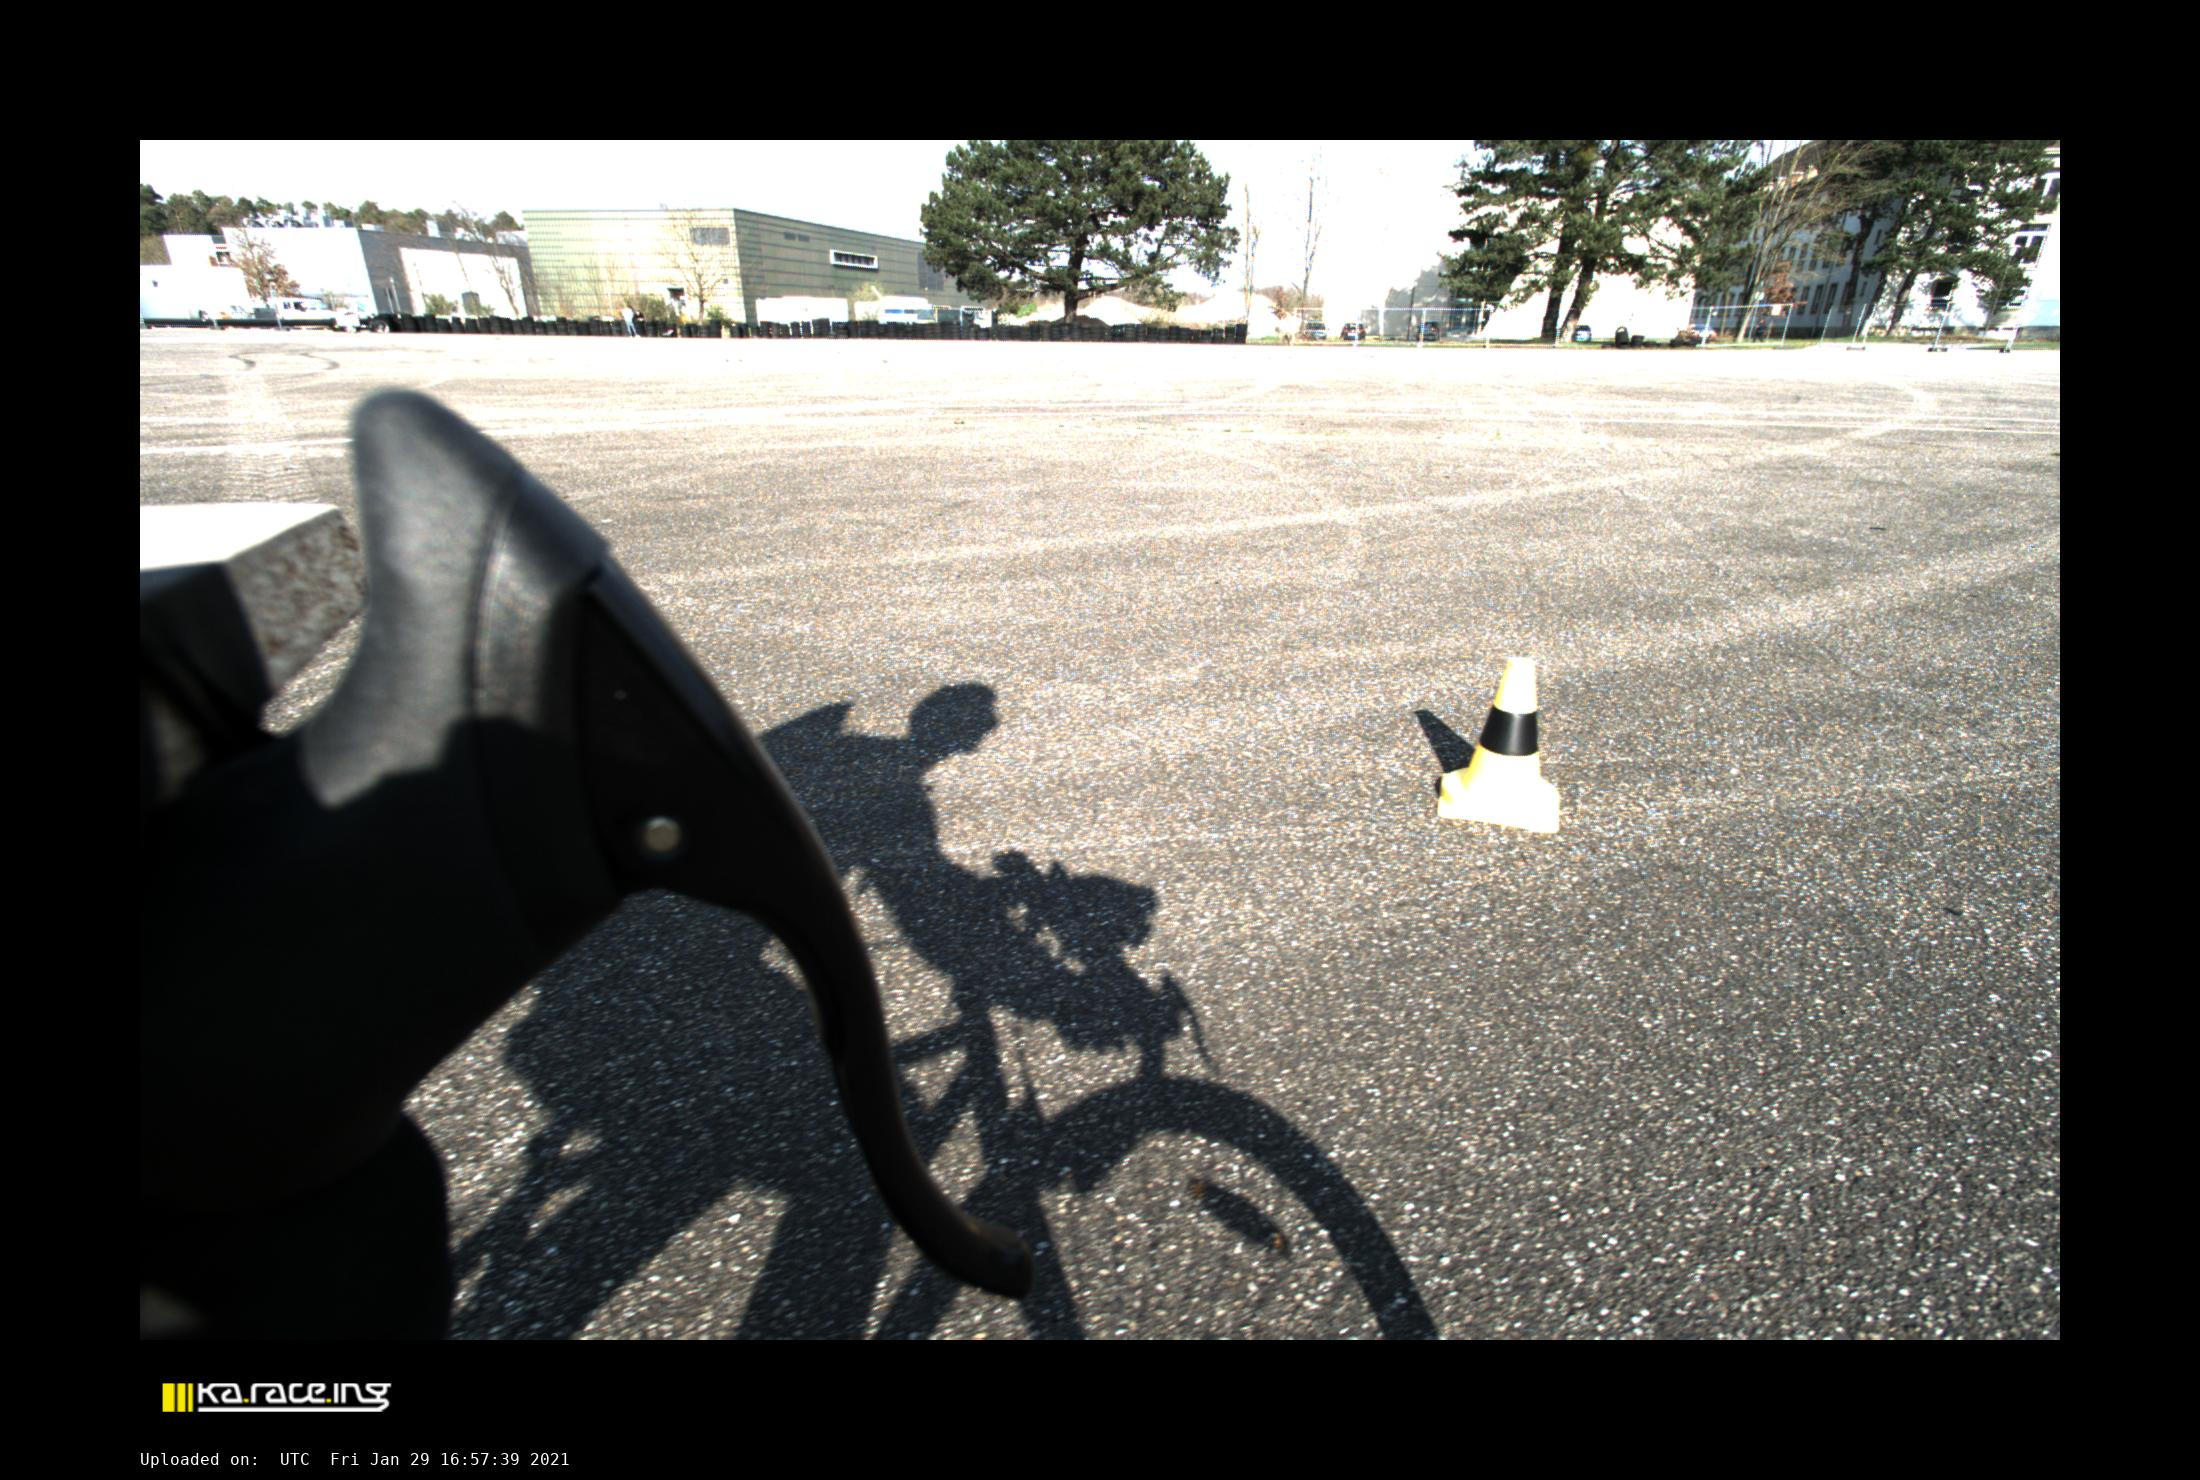yellow_cone: (1438, 657, 1559, 833)
